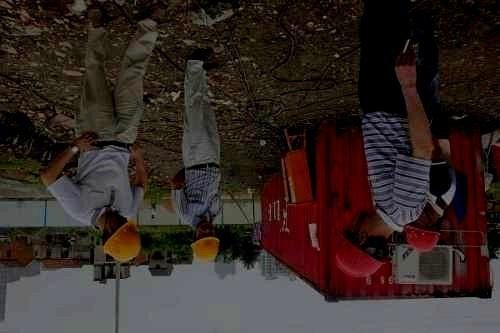helmet: (333, 204, 391, 278), (100, 209, 142, 264), (403, 202, 443, 253), (190, 221, 220, 263)
